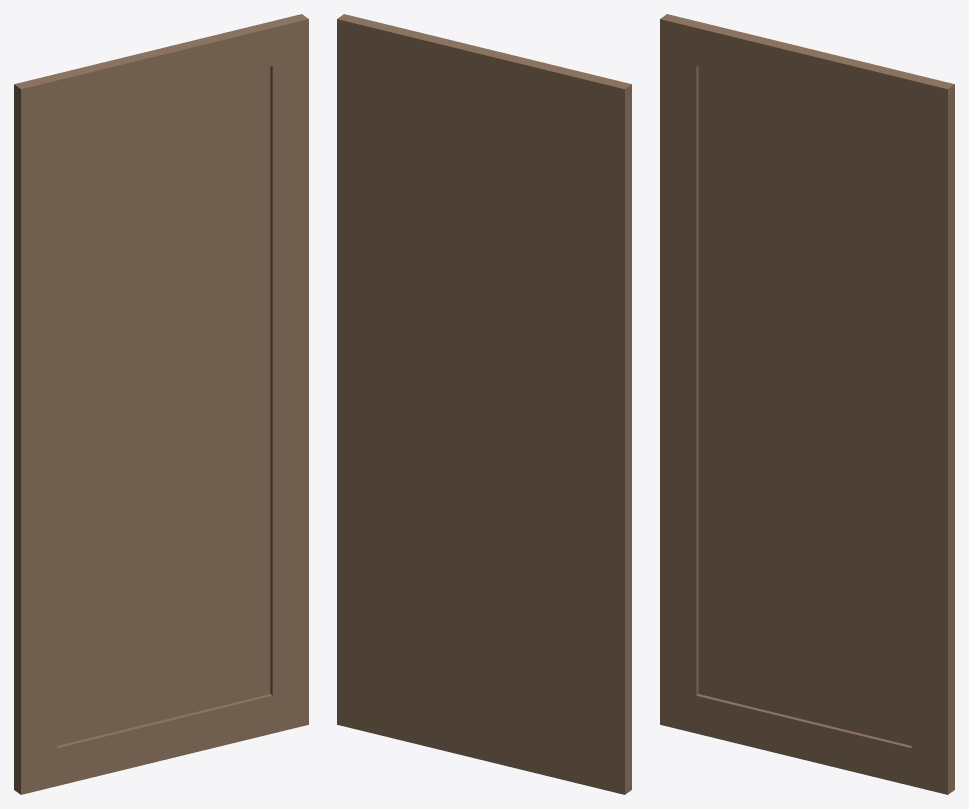
File: door_15.obj
3 renders of one model, left to right at view 1: azimuth 30°, elevation 25°; view 2: azimuth 150°, elevation 25°; view 3: azimuth 330°, elevation 25°, orthographic.
Parts seen in each view (by area): view 1: door_15; view 2: door_15; view 3: door_15.
Boxes of the visible parts, x1,y1,x2,y2 form: door_15: [14, 14, 308, 794]; door_15: [337, 14, 631, 794]; door_15: [660, 14, 954, 794].
Size of the model in its own units: 454 by 1064 by 19.05.
